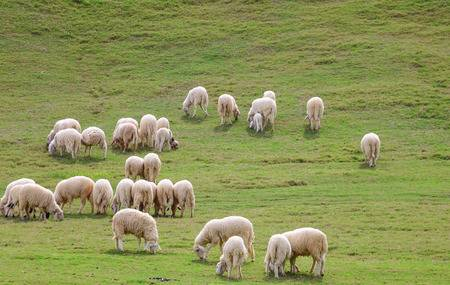sheep: (111, 206, 163, 255), (289, 226, 330, 277), (17, 182, 65, 223), (213, 234, 248, 281), (52, 173, 92, 214), (264, 233, 291, 279), (80, 124, 109, 160), (47, 127, 80, 158), (172, 176, 198, 215), (355, 130, 382, 167), (181, 85, 210, 119), (92, 172, 113, 216), (154, 179, 175, 220), (304, 95, 326, 132), (136, 112, 157, 149), (216, 92, 241, 123), (111, 122, 137, 151), (248, 95, 277, 118), (133, 181, 154, 211), (155, 127, 178, 153), (249, 114, 265, 135)
